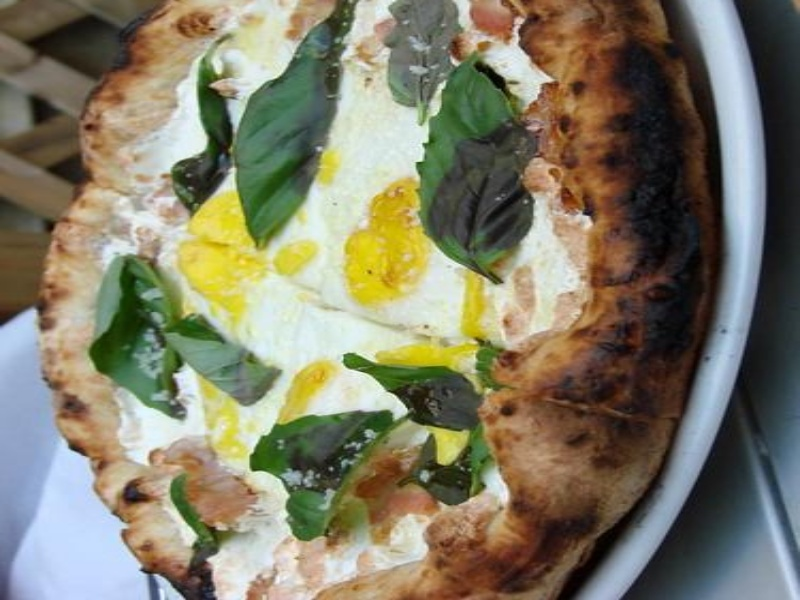oeuf: (335, 168, 443, 333), (181, 199, 283, 344)
